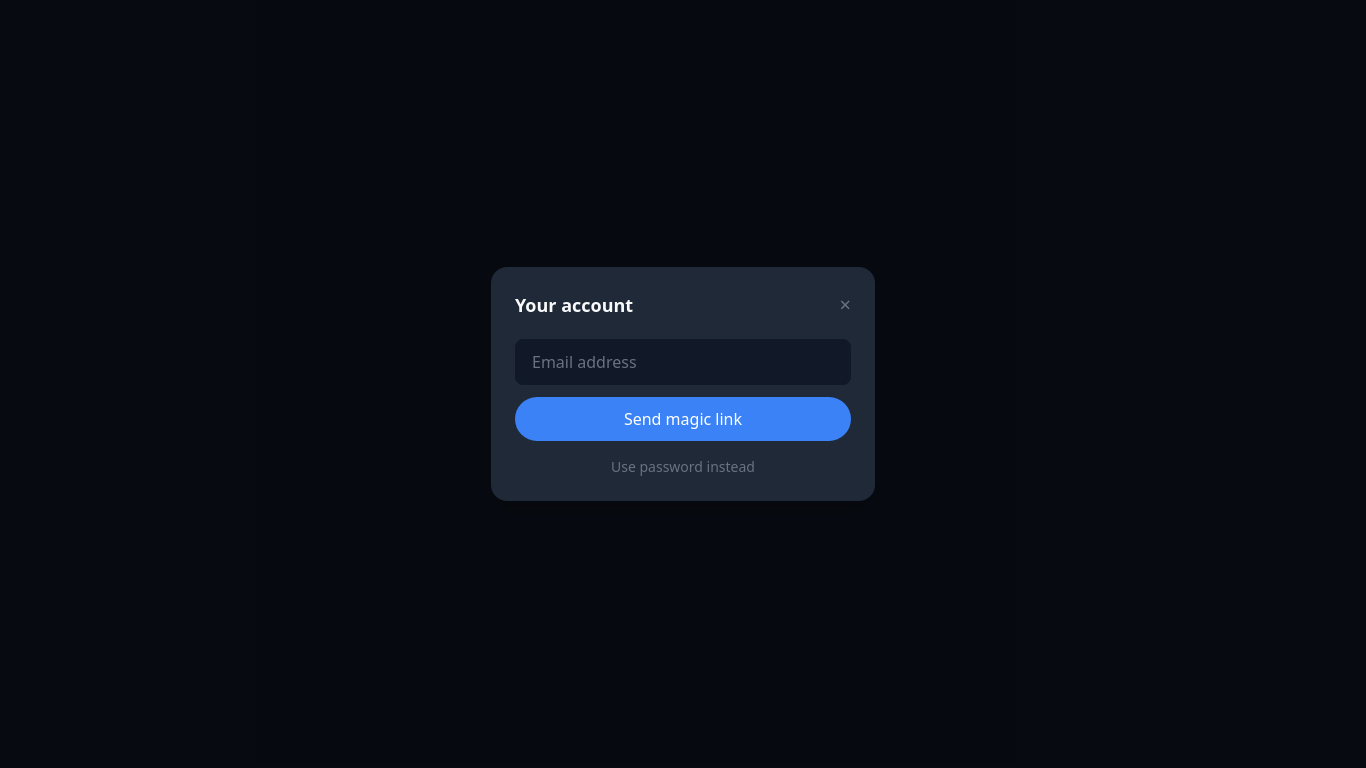
Test: AuthModal › "Use password instead" reveals password form
Click the button "Use password instead": {"x": 683, "y": 467} [515,457,851,477]
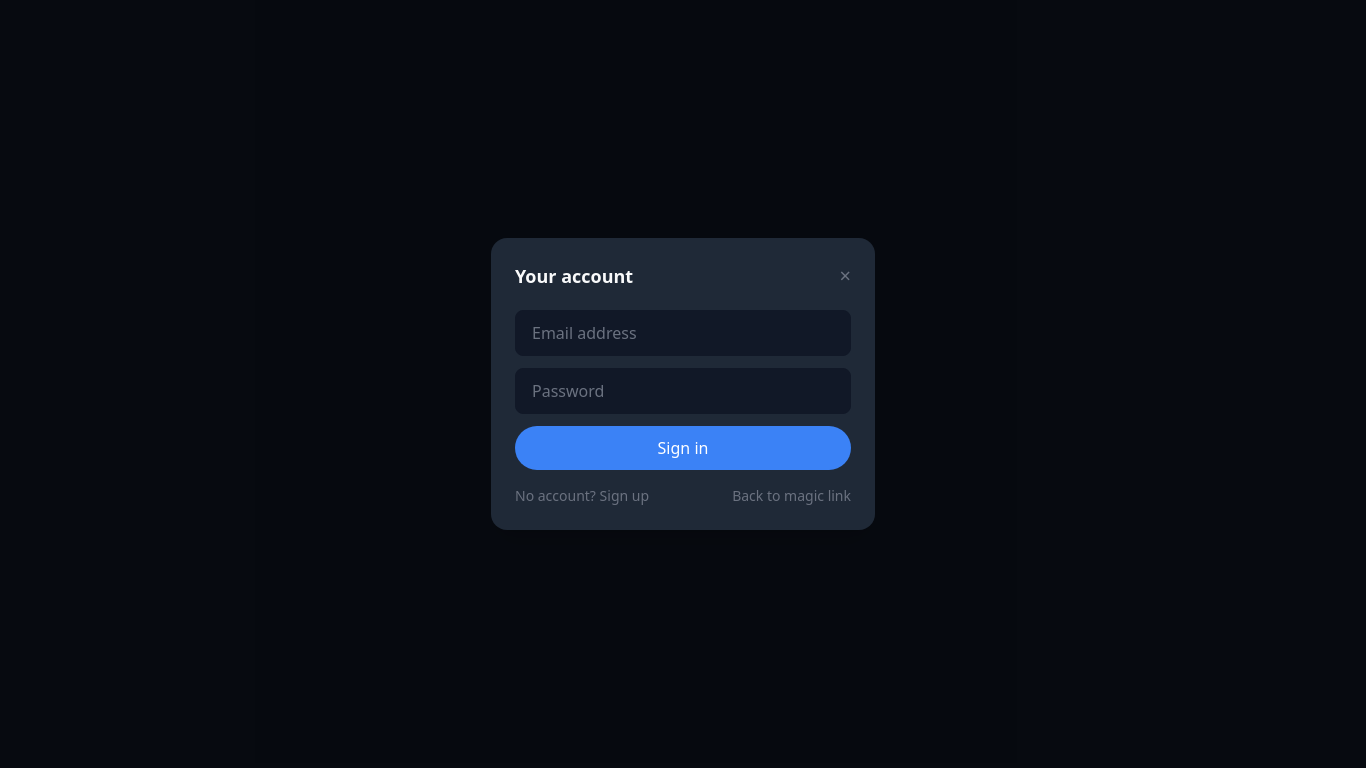
Check: the password field with placeholder "Password" is shown, box [515,368,851,414]
